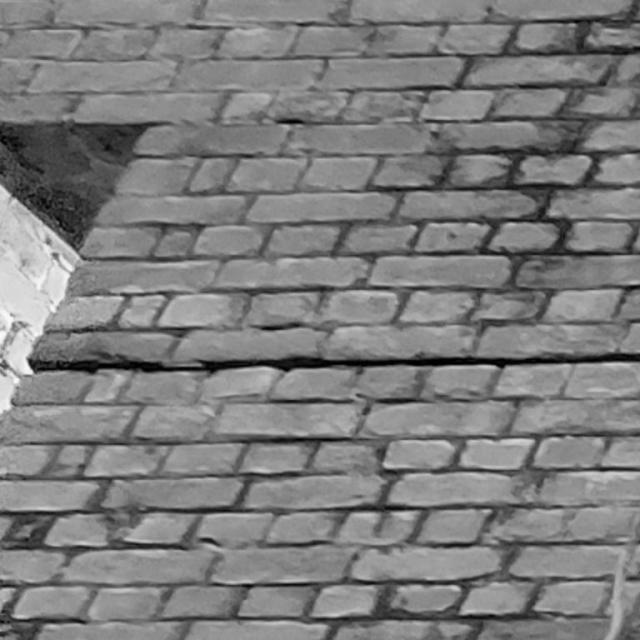crack: (27, 351, 640, 376)
